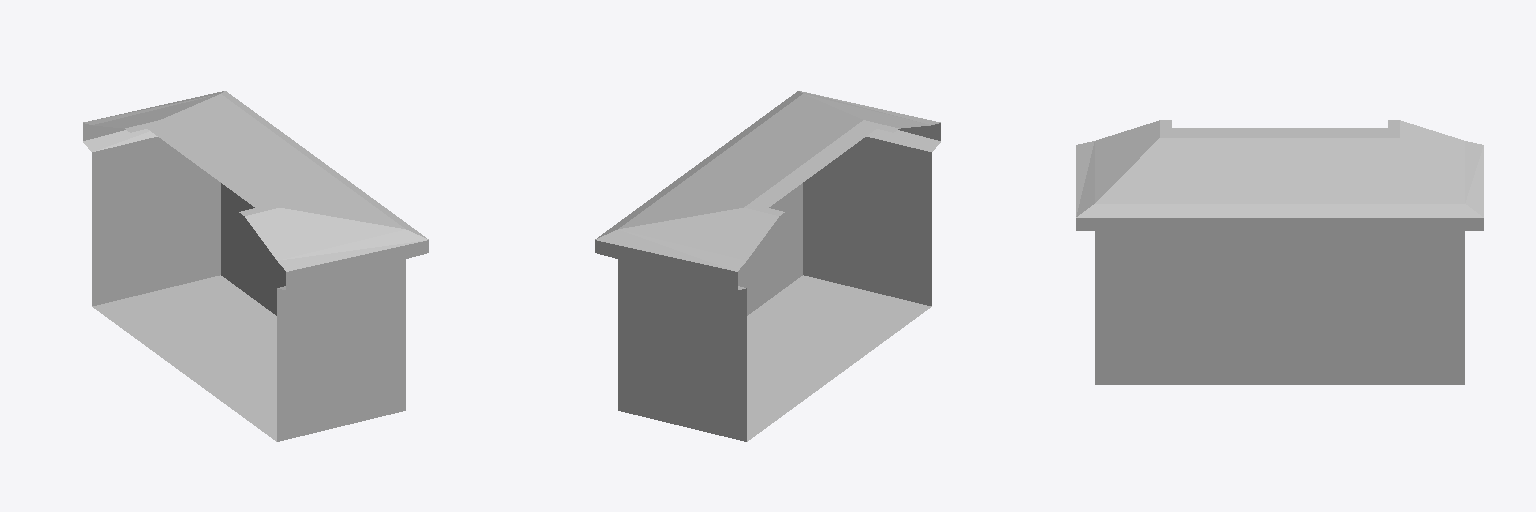
The model's file is Nachbarhaus_2_noMat.obj.
The picture shows the model from 3 angles: view 1: azimuth 30°, elevation 25°; view 2: azimuth 150°, elevation 25°; view 3: azimuth 270°, elevation 25°; orthographic projection.
Parts seen in each view (by area): view 1: Nachbarhaus2; view 2: Nachbarhaus2; view 3: Nachbarhaus2.
Part boxes in pixels (left/top/right/bottom): Nachbarhaus2: left=83, top=91, right=428, bottom=441; Nachbarhaus2: left=595, top=91, right=940, bottom=441; Nachbarhaus2: left=1076, top=120, right=1483, bottom=384.
Bounding box in the file's own units: 242 × 326 × 597.